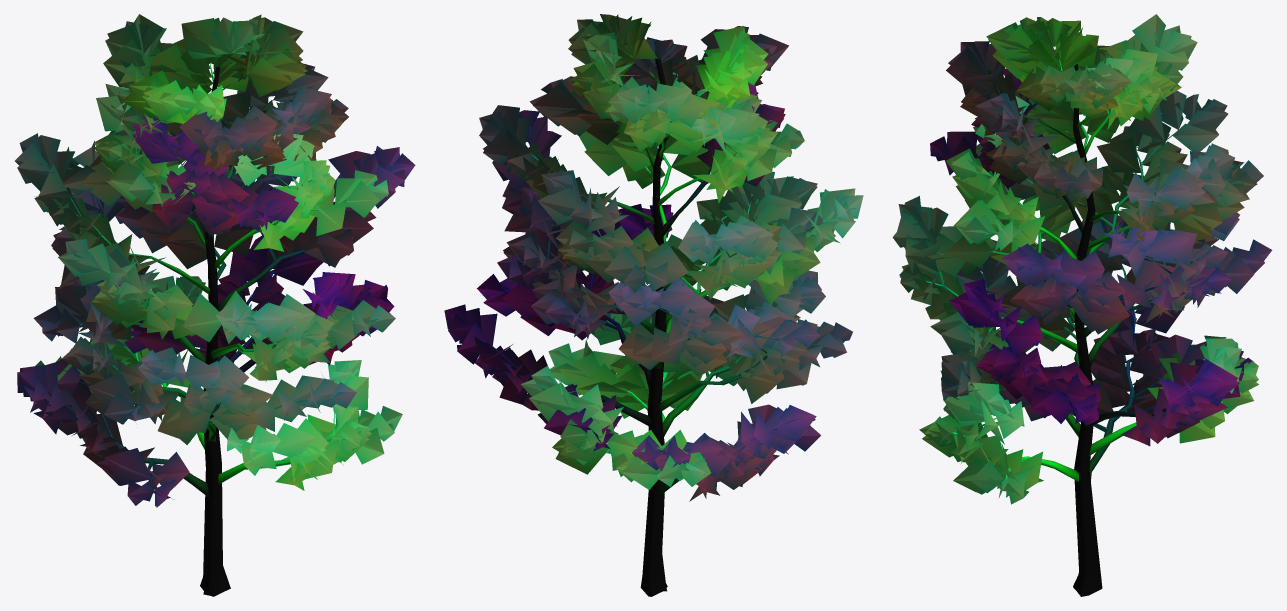
Rendered from SM_FLTree_05.FBX.
3 renders of one model, left to right at view 1: azimuth 30°, elevation 25°; view 2: azimuth 150°, elevation 25°; view 3: azimuth 270°, elevation 25°, orthographic.
Visible parts, largest first — view 1: SM_FLTree_05_LOD0; view 2: SM_FLTree_05_LOD0; view 3: SM_FLTree_05_LOD0.
Part boxes in pixels (left/top/right/bottom): SM_FLTree_05_LOD0: left=15, top=14, right=415, bottom=596; SM_FLTree_05_LOD0: left=444, top=14, right=863, bottom=596; SM_FLTree_05_LOD0: left=892, top=14, right=1272, bottom=596.
Size of what is drawn, in the model's own units: 804 by 1211 by 750.
